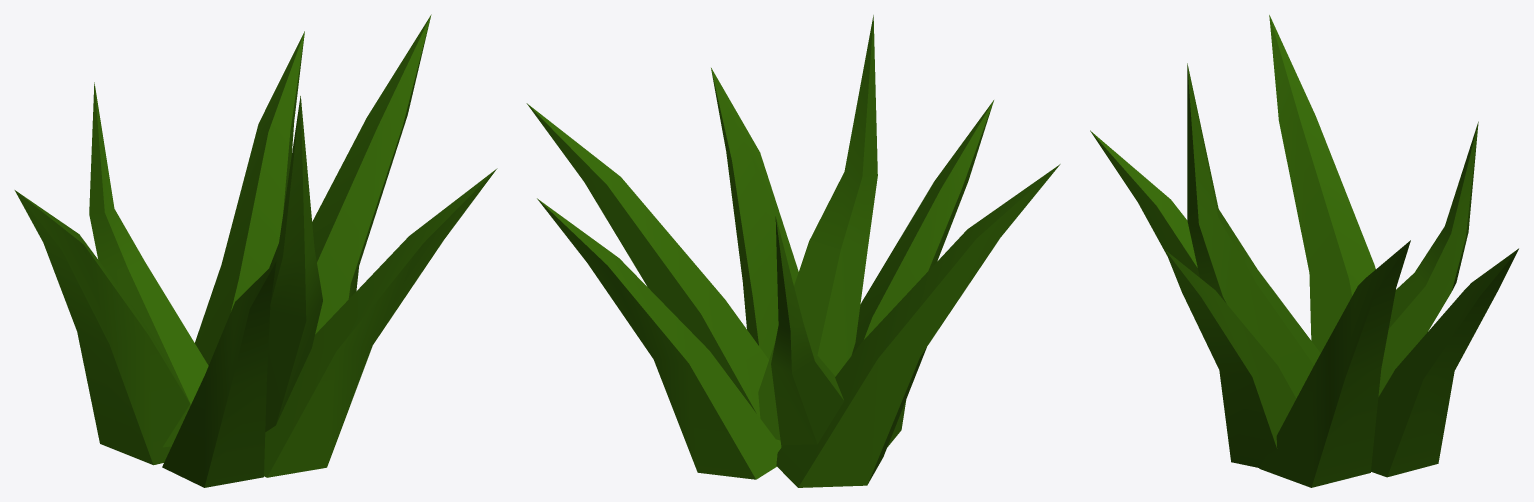
Rendered from grass_cluster1_Dean.fbx.
The picture shows the model from 3 angles, left to right: view 1: azimuth 30°, elevation 25°; view 2: azimuth 150°, elevation 25°; view 3: azimuth 270°, elevation 25°; orthographic projection. The views are drawn at different scales.
Visible parts, largest first — view 1: pCylinder51, pCylinder48, pCylinder47, pCylinder50, pCylinder52, pCylinder53, pCylinder54; view 2: pCylinder51, pCylinder52, pCylinder53, pCylinder50, pCylinder48, pCylinder47, pCylinder54; view 3: pCylinder50, pCylinder51, pCylinder52, pCylinder53, pCylinder48, pCylinder54, pCylinder47.
Boxes of the visible parts, box(x1,y1,x2,y2) form: pCylinder51: box(14, 190, 189, 465); pCylinder48: box(264, 168, 497, 477); pCylinder47: box(162, 261, 276, 487); pCylinder50: box(312, 14, 431, 334); pCylinder52: box(195, 31, 304, 365); pCylinder53: box(265, 96, 322, 431); pCylinder54: box(89, 82, 208, 447); pCylinder51: box(776, 164, 1060, 487); pCylinder52: box(537, 198, 781, 479); pCylinder53: box(758, 15, 877, 440); pCylinder50: box(526, 103, 781, 445); pCylinder48: box(711, 68, 798, 359); pCylinder47: box(851, 100, 993, 447); pCylinder54: box(771, 216, 843, 447); pCylinder50: box(1259, 240, 1410, 487); pCylinder51: box(1269, 15, 1375, 352); pCylinder52: box(1371, 248, 1518, 477); pCylinder53: box(1187, 63, 1320, 398); pCylinder48: box(1165, 250, 1296, 467); pCylinder54: box(1378, 121, 1478, 396); pCylinder47: box(1090, 130, 1199, 277).
Bounding box in the file's own units: 40.95 × 32.28 × 32.98.
